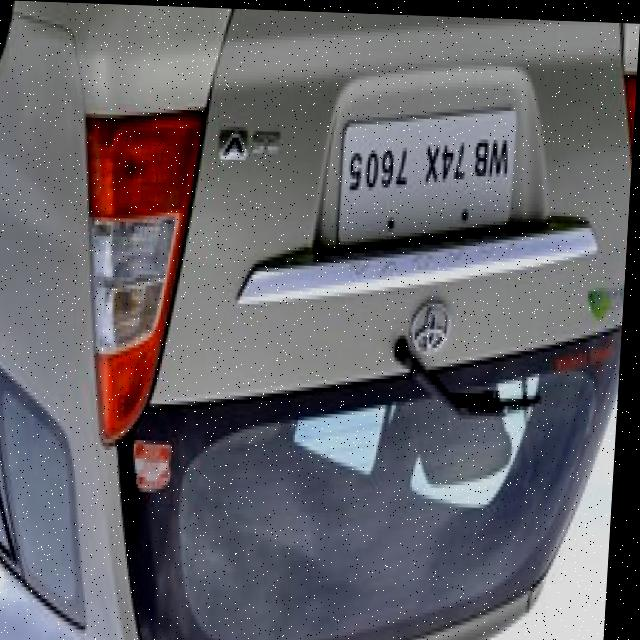plate: (340, 88, 519, 248)
